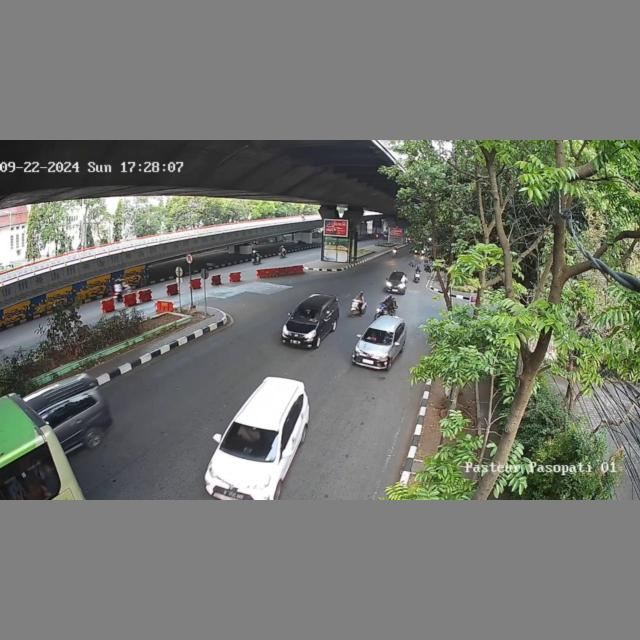windshield: (215, 422, 286, 460), (290, 307, 320, 325), (361, 328, 393, 344)
